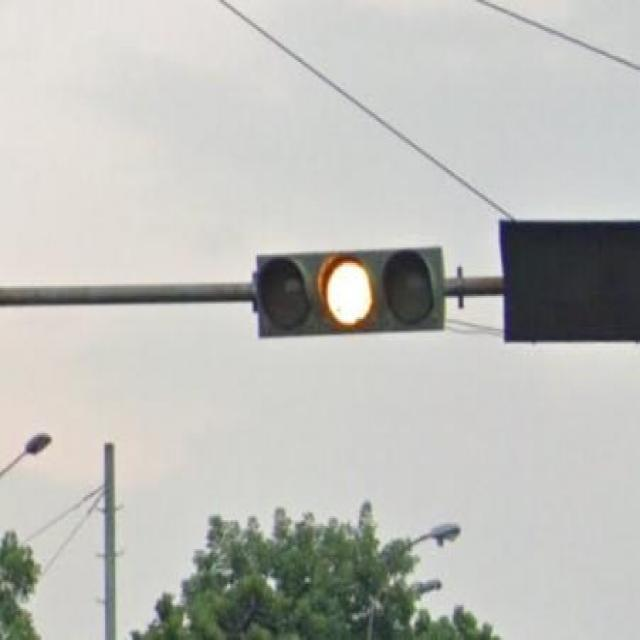yellow_light: (254, 252, 446, 333)
